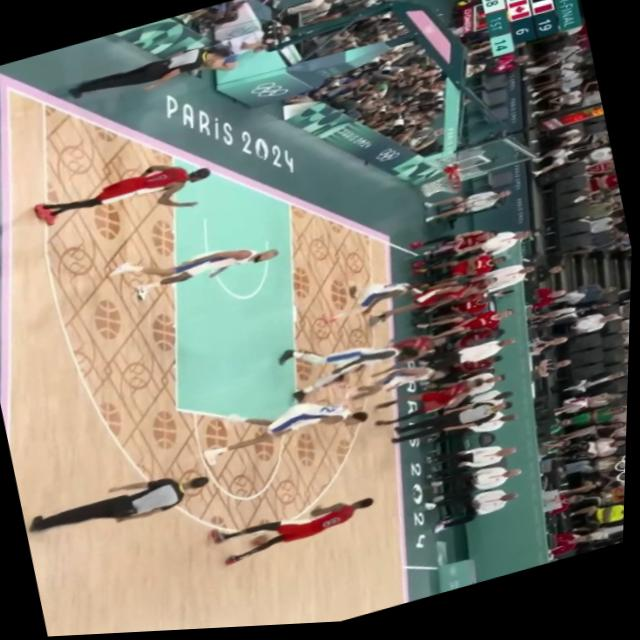ball_handler: (212, 490, 382, 570)
